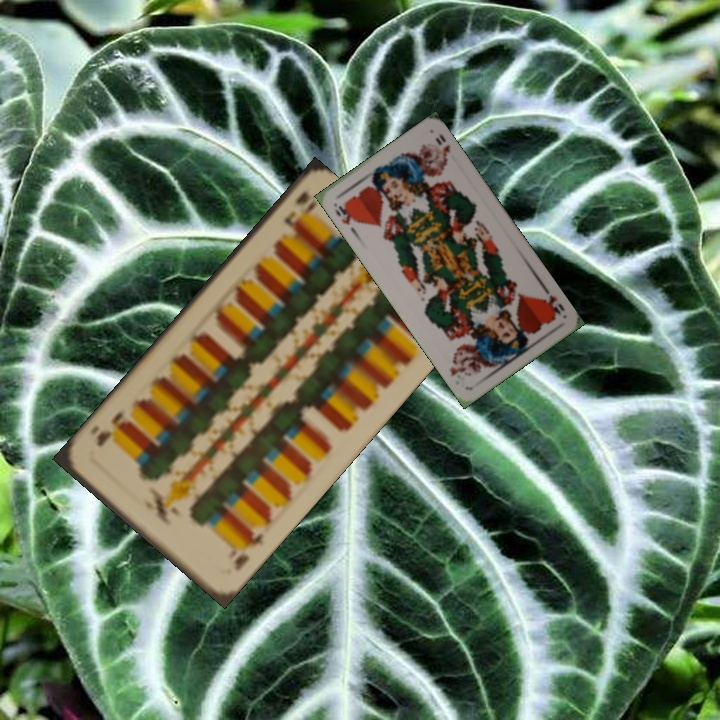E10: (224, 525, 267, 574), (279, 187, 320, 232)
HO: (539, 283, 568, 321), (330, 199, 361, 227)
